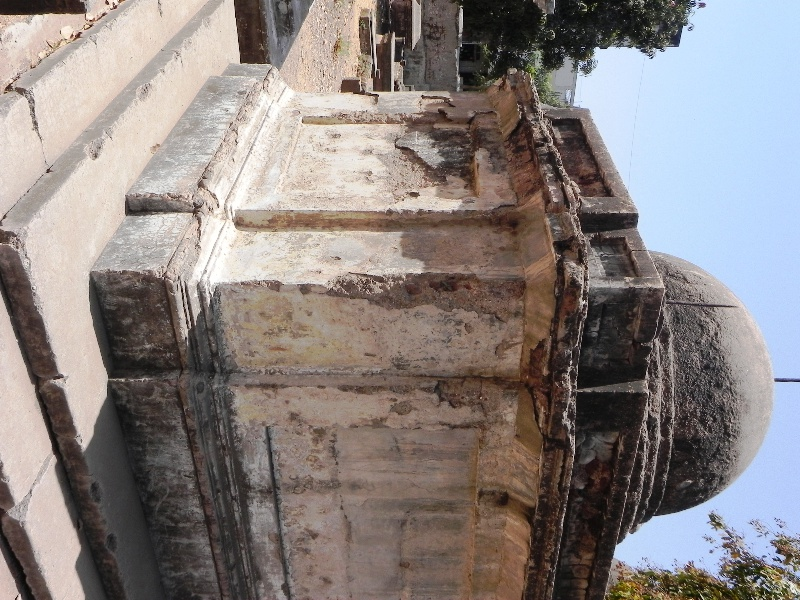Spalling: (321, 263, 525, 319), (378, 128, 472, 198), (434, 365, 505, 421)
